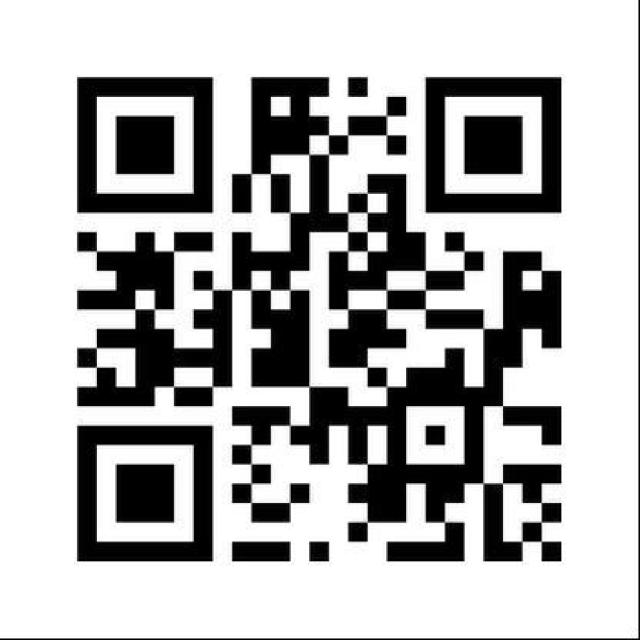QRCode: (68, 69, 574, 578)
